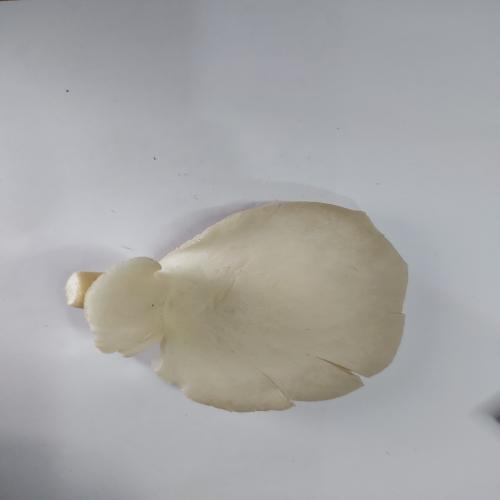Oyster Mushroom: (64, 198, 409, 413)
